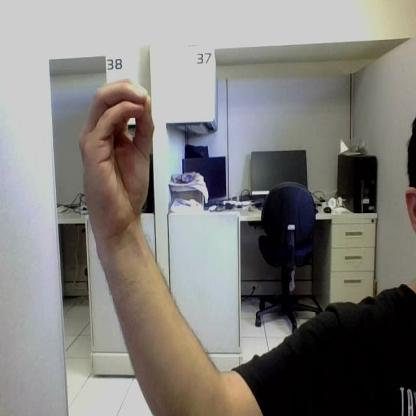O: (80, 78, 152, 234)
